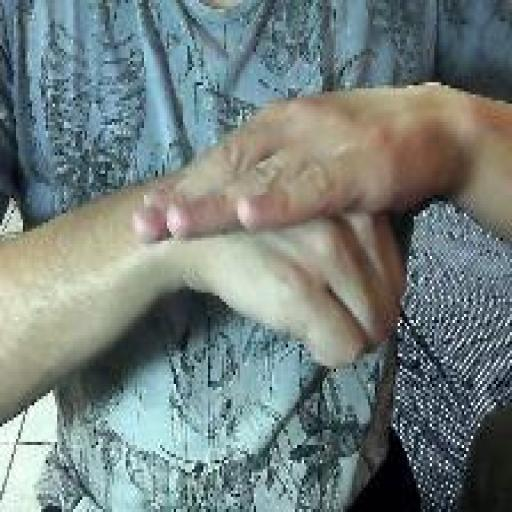Inu -dog-: (127, 87, 410, 370)
